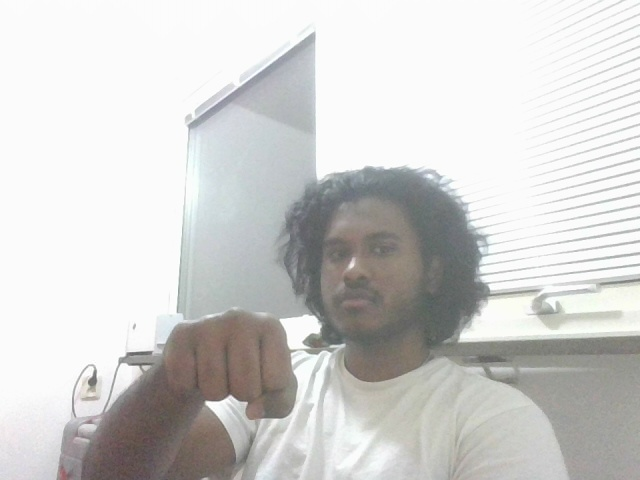Yes: (144, 305, 321, 441)
